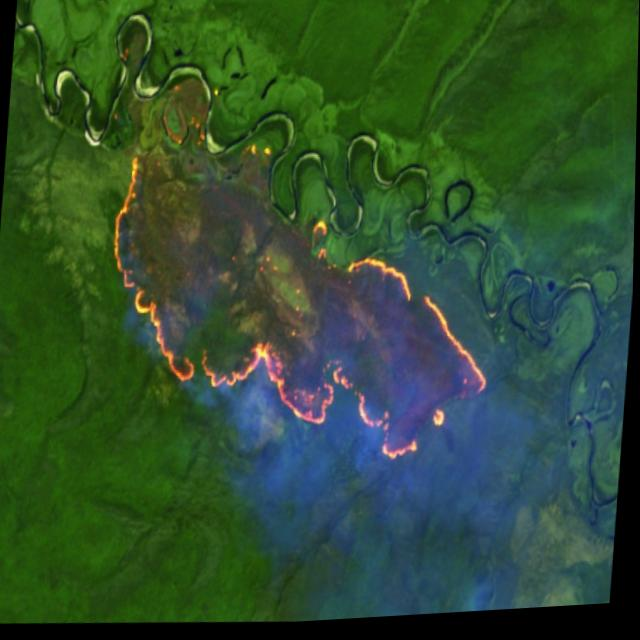fire: (90, 78, 512, 496)
